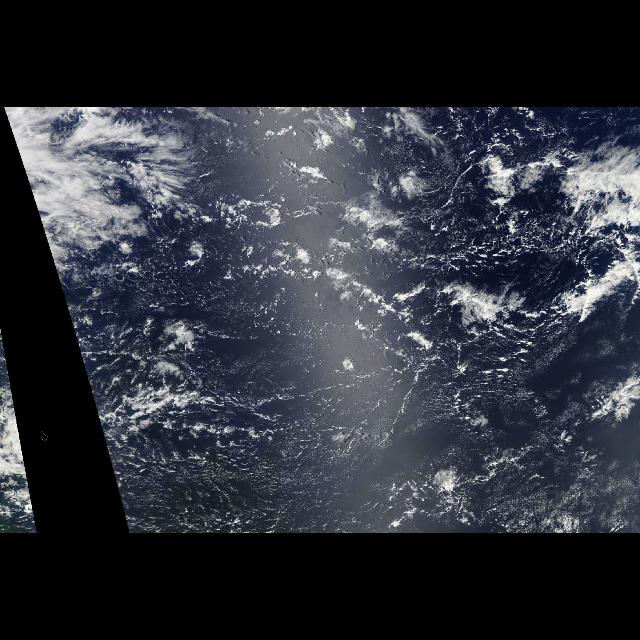Gravel: (79, 206, 631, 528)
Sugar: (120, 363, 604, 533)
